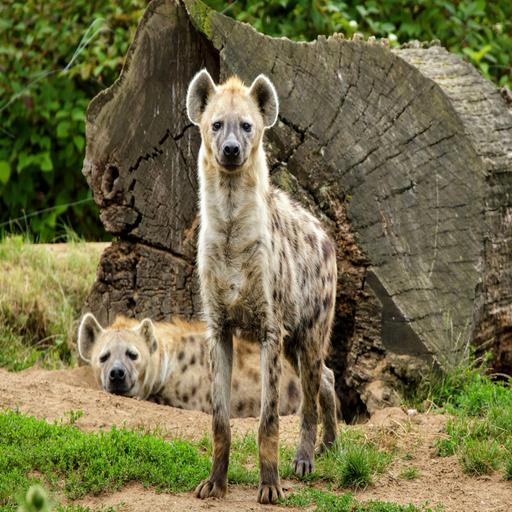Hyena: (179, 71, 352, 505), (76, 315, 328, 423)
